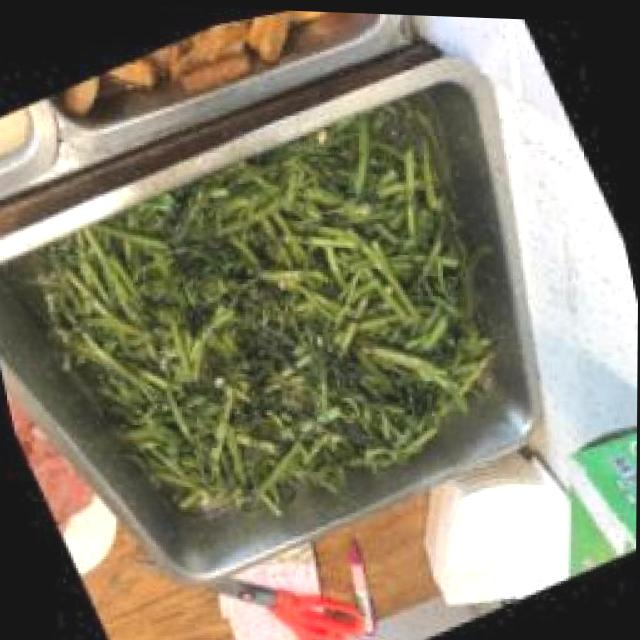water_spinach: (45, 96, 512, 540)
